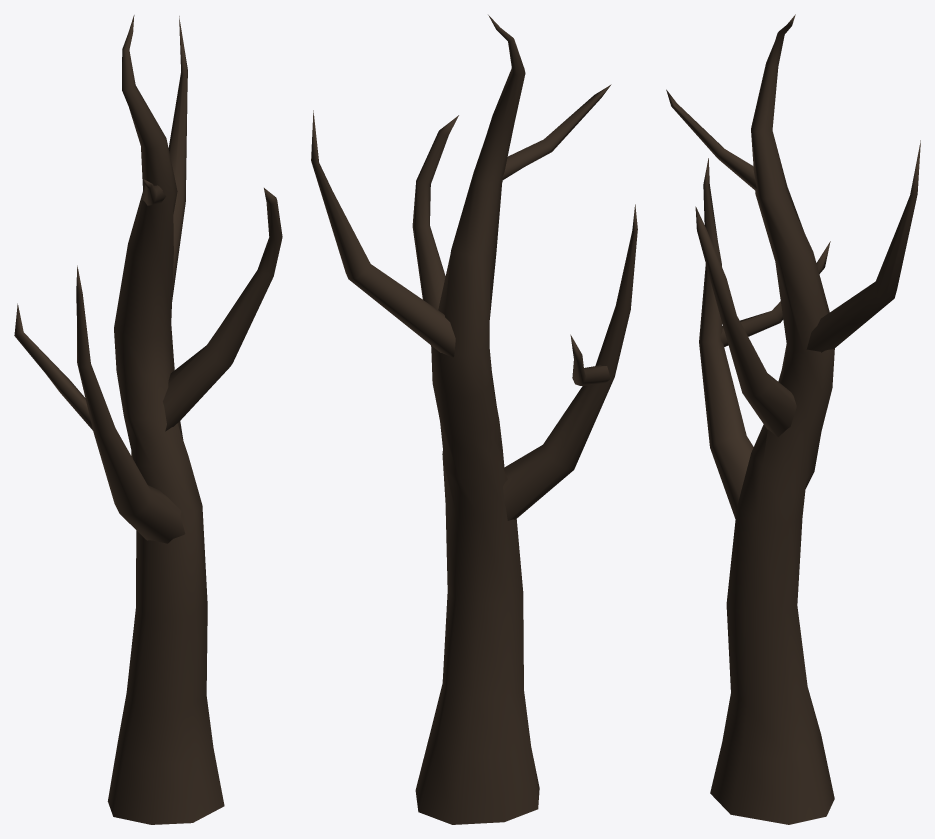
The model's file is Tree_1a.fbx.
3 views of the same model, side by side, from view 1: azimuth 30°, elevation 25°; view 2: azimuth 150°, elevation 25°; view 3: azimuth 270°, elevation 25° (orthographic). The views are drawn at different scales.
Visible parts, largest first — view 1: tree1; view 2: tree1; view 3: tree1.
Boxes of the visible parts, box(x1,y1,x2,y2) form: tree1: box(14, 15, 282, 824); tree1: box(311, 15, 637, 824); tree1: box(666, 14, 920, 824).
Size of the model in its own units: 171 by 586 by 174.
